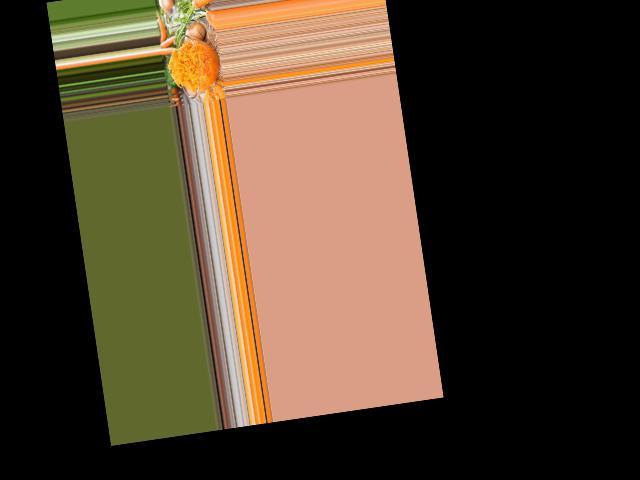carrot: (162, 46, 176, 54)
